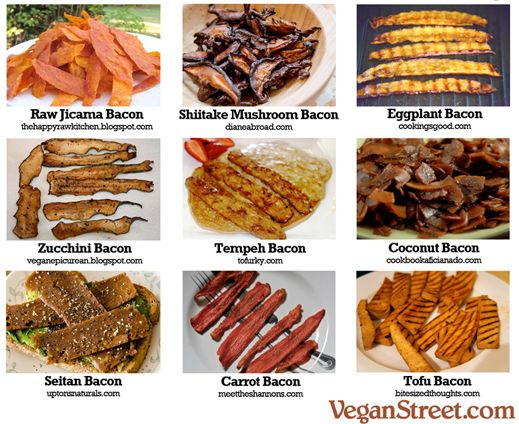bacon: (34, 18, 159, 110), (193, 284, 315, 357), (371, 19, 469, 108), (374, 148, 475, 228), (213, 15, 306, 90)
